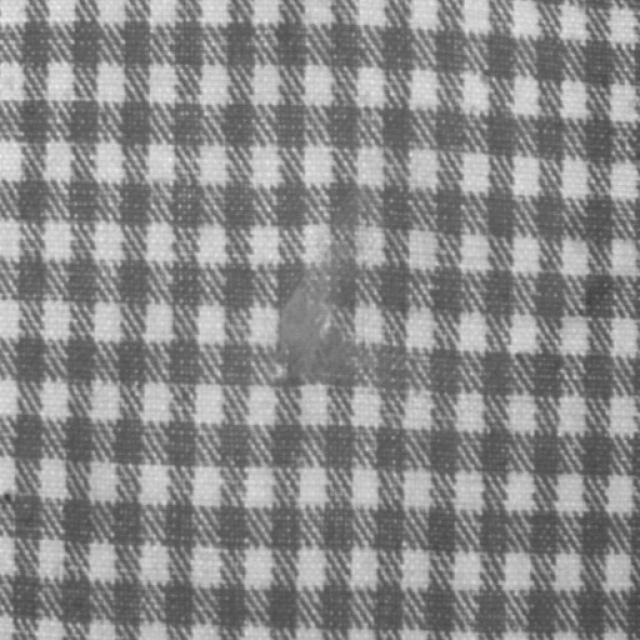Stain-Defect: (275, 271, 336, 382)
